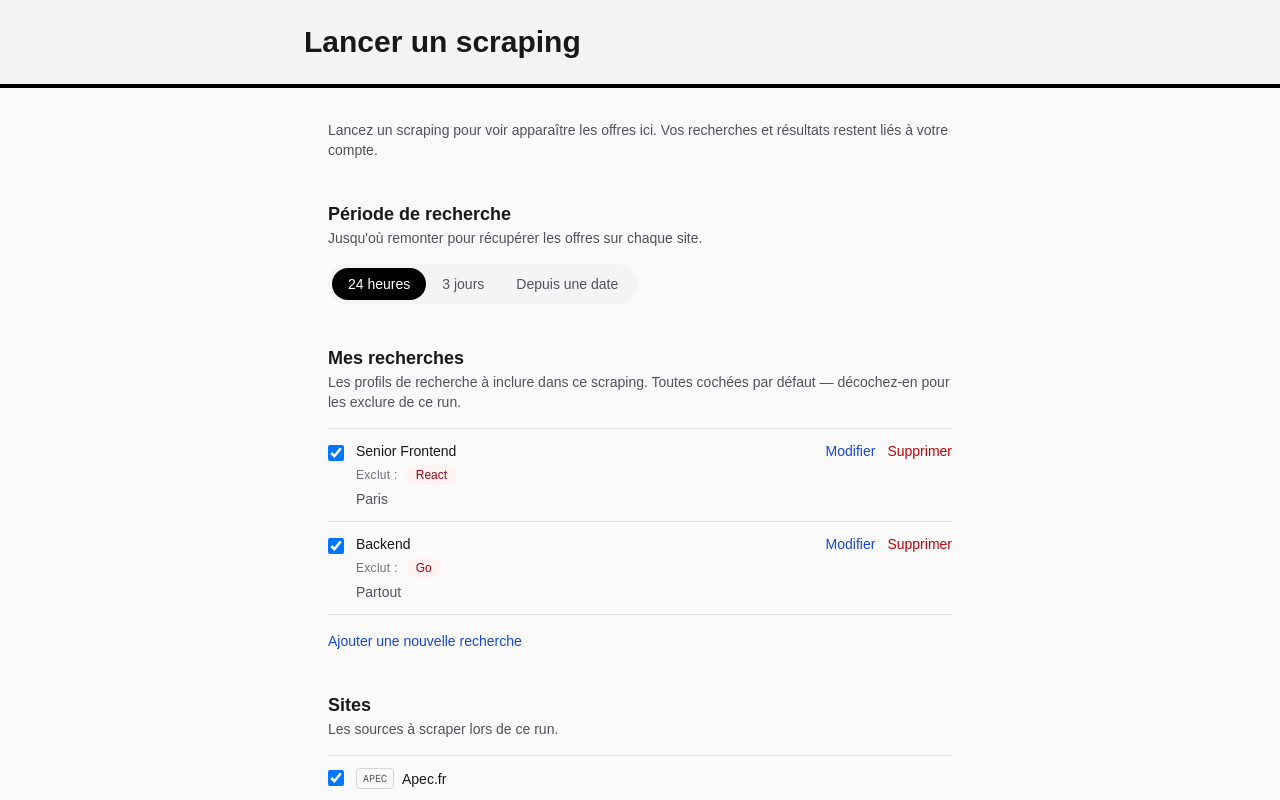
Scenario: HomeClient — authenticated trigger › disables submit once every saved search is unchecked
Click the checkbox labelled "Senior Frontend" at {"x": 336, "y": 453}, box [328,445,344,461]
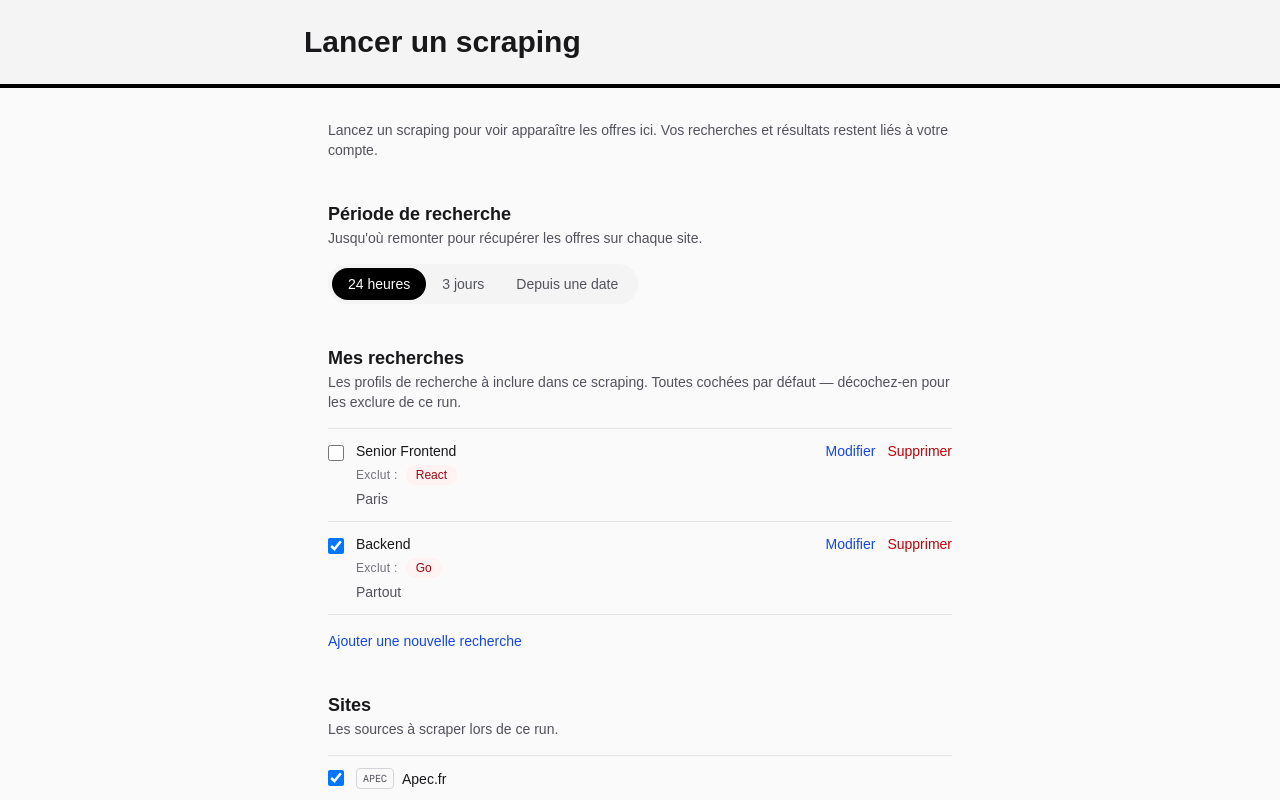
Click the checkbox labelled "Backend" at {"x": 336, "y": 546}, box [328,538,344,554]
(page scrolled)
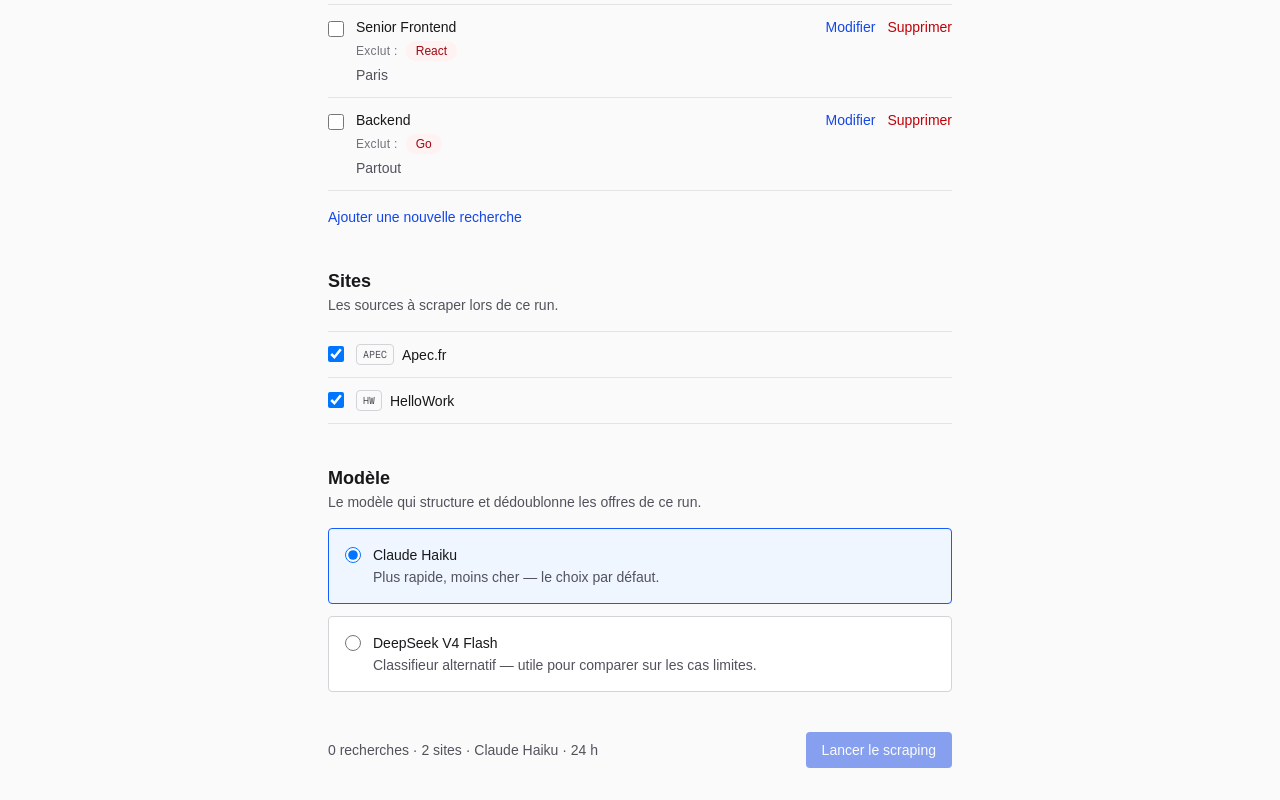
Result: the button "Lancer le scraping" is disabled at [806,732,952,768]
